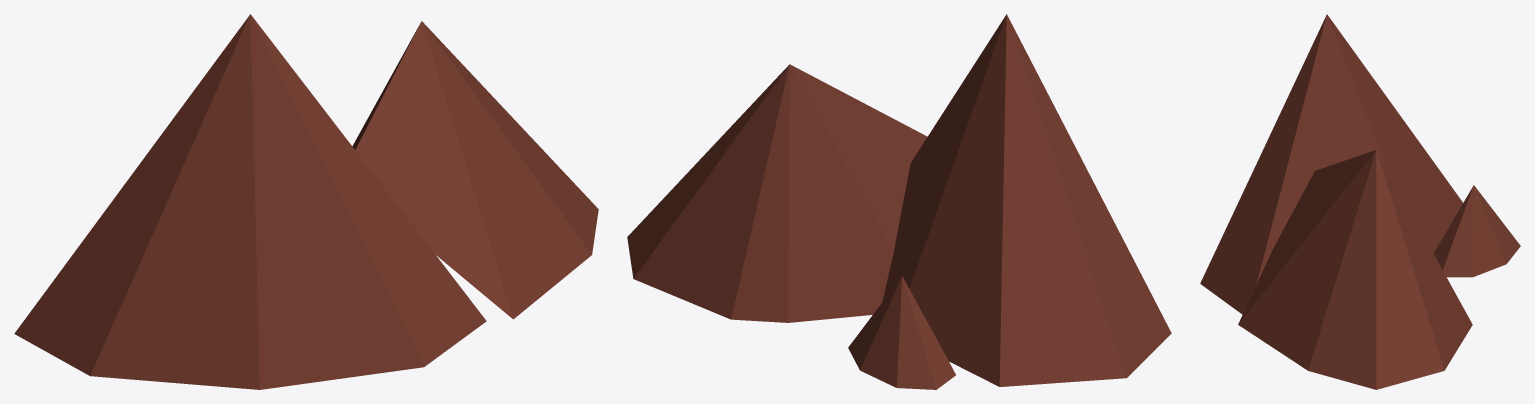
The model's file is Mountain_Merged_1.glb.
The picture shows the model from 3 angles, left to right: view 1: azimuth 30°, elevation 25°; view 2: azimuth 150°, elevation 25°; view 3: azimuth 270°, elevation 25°; orthographic projection. The views are drawn at different scales.
Visible parts, largest first — view 1: Cone.001; view 2: Cone.001; view 3: Cone.001.
Boxes of the visible parts, bbox=[...] form: Cone.001: bbox=[14, 14, 598, 389]; Cone.001: bbox=[627, 14, 1171, 389]; Cone.001: bbox=[1200, 14, 1520, 389].
Size of the model in its own units: 49.86 by 26.46 by 32.5.
